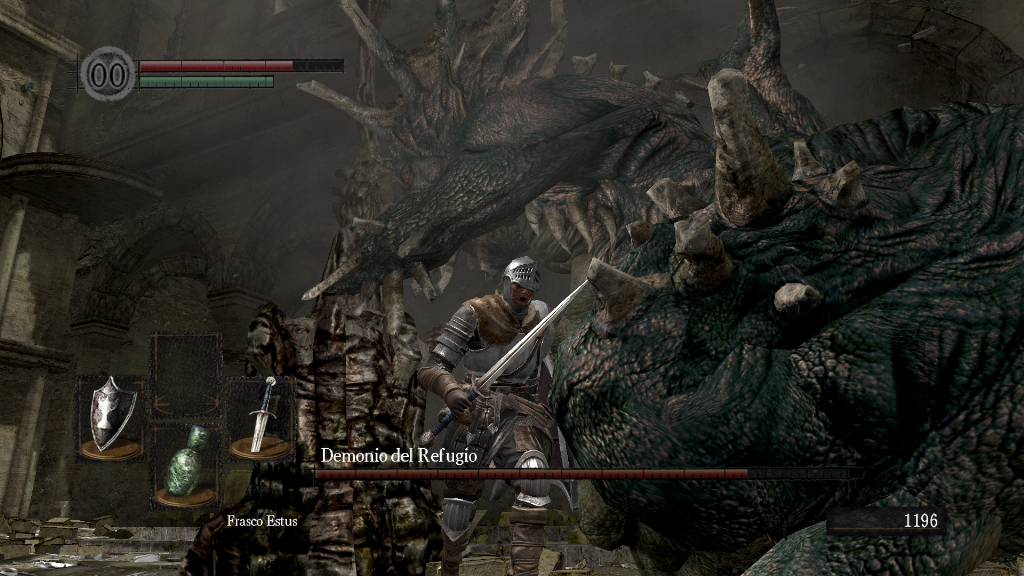asylumDemon: (179, 1, 1024, 575)
bossHP: (314, 469, 847, 479)
health: (138, 58, 343, 71)
humanity: (80, 45, 136, 102)
player: (417, 252, 587, 576)
souls: (825, 506, 945, 536)
stamina: (138, 74, 274, 88)
